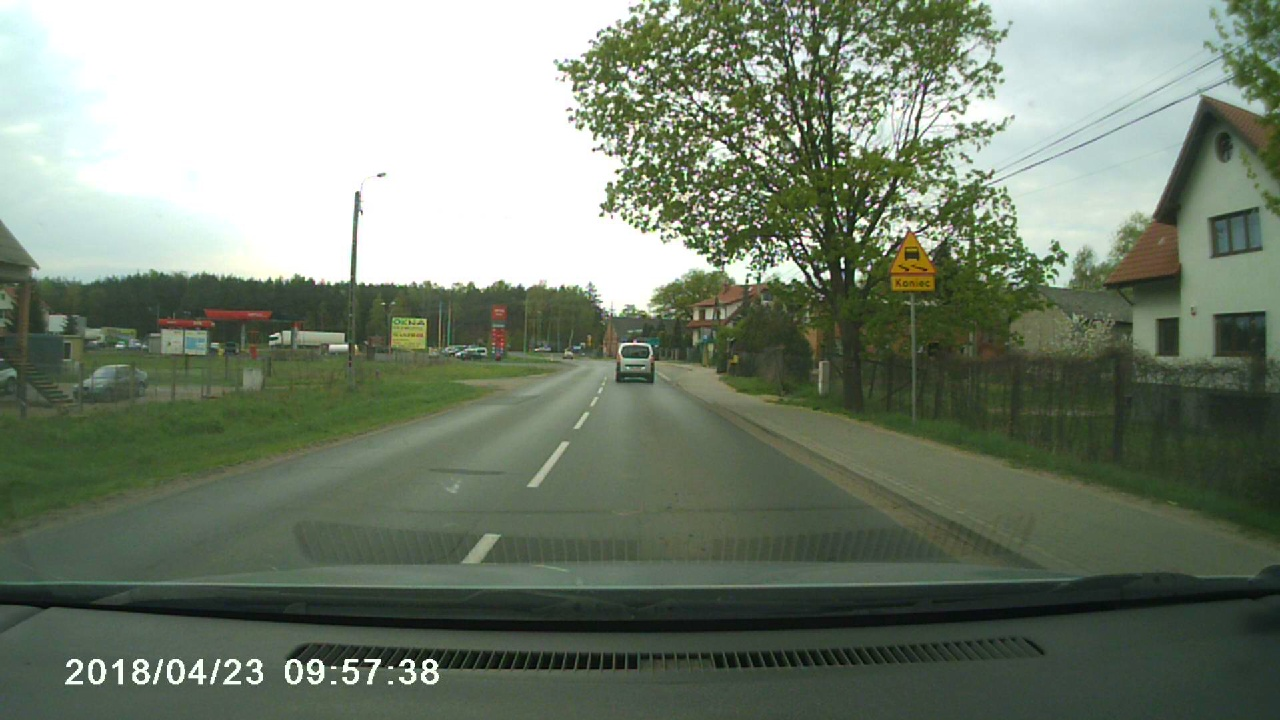A15: (891, 231, 937, 275)
